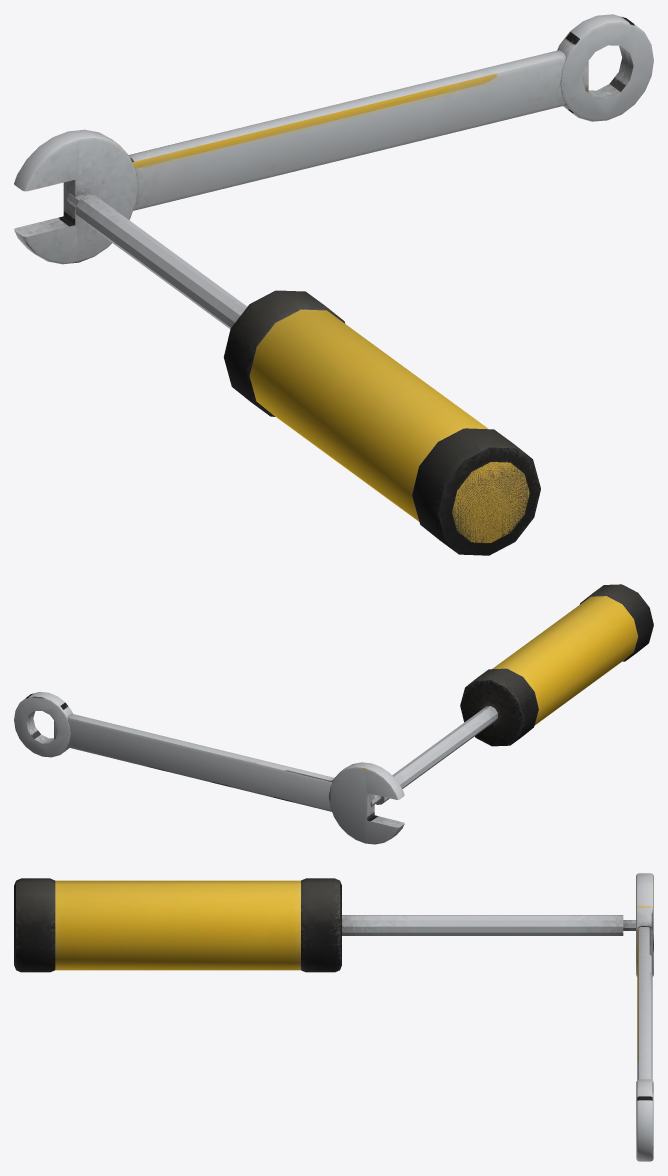
Rendered from tools.glb.
The picture shows the model from 3 angles, top to bottom: view 1: azimuth 30°, elevation 25°; view 2: azimuth 150°, elevation 25°; view 3: azimuth 270°, elevation 25°; orthographic projection. The views are drawn at different scales.
Visible parts, largest first — view 1: screwdriver, spanner; view 2: screwdriver, spanner; view 3: screwdriver, spanner.
Boxes of the visible parts, x1,y1,x2,y2 form: screwdriver: (67,193,540,555); spanner: (14,14,653,264); screwdriver: (371,584,653,806); spanner: (14,692,404,844); screwdriver: (14,878,635,972); spanner: (636,873,653,1161).
Size of the model in its own units: 0.1529 by 0.029 by 0.1775.
Materials: 1 (1 with a texture image).
